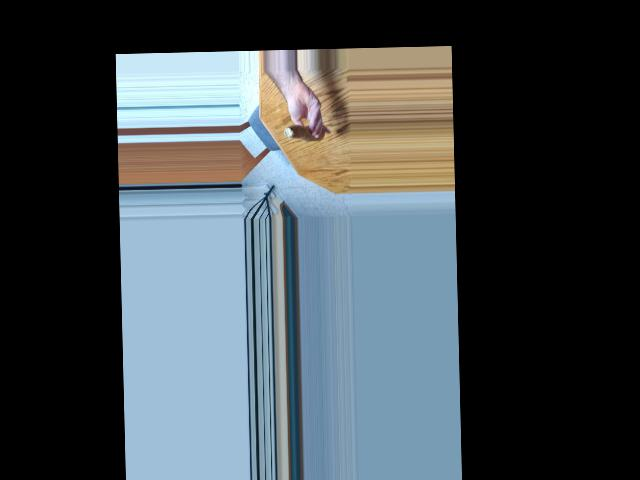sweet_potato: (290, 123, 322, 142)
